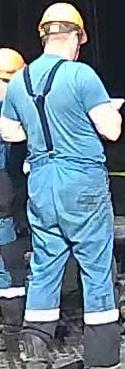helmet: (37, 2, 84, 38), (0, 47, 24, 80)
